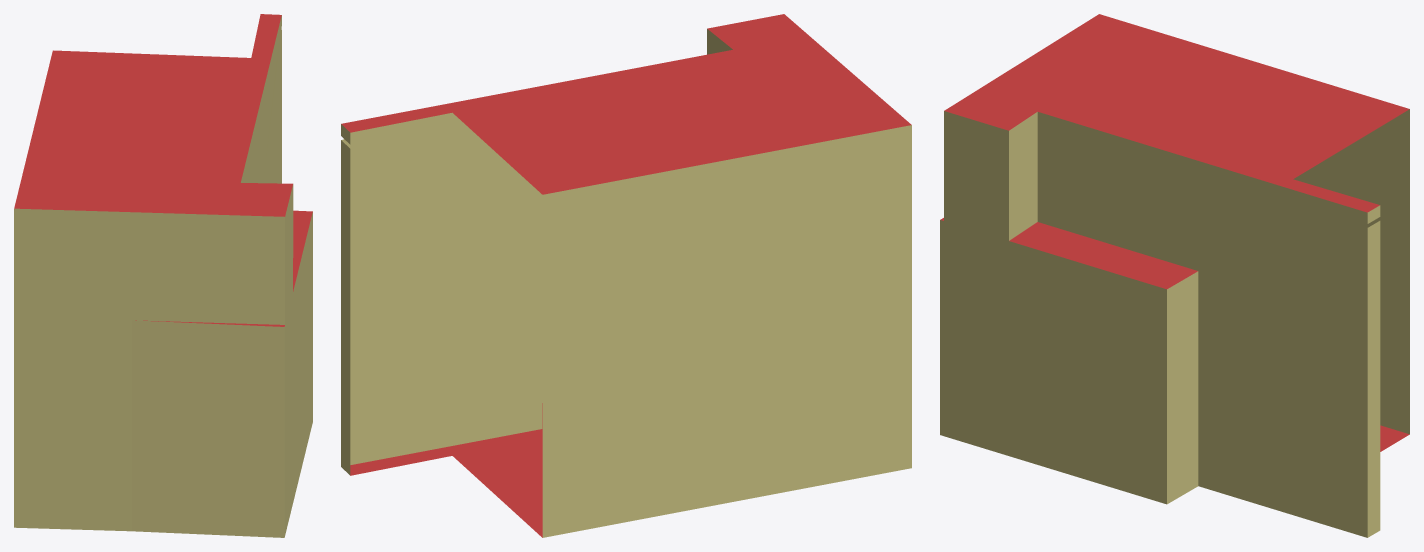
The picture shows the model from 3 angles, left to right: view 1: azimuth 30°, elevation 25°; view 2: azimuth 150°, elevation 25°; view 3: azimuth 270°, elevation 25°; orthographic projection. The views are drawn at different scales.
Size of the model in its own units: 11.33 by 11.32 by 8.65.
